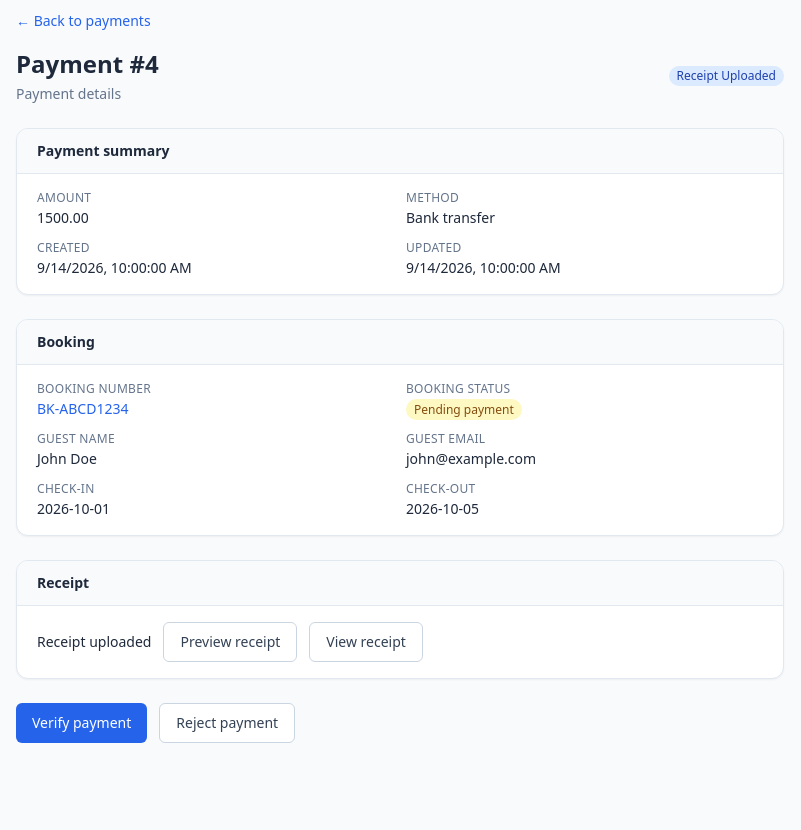
Test: Staff payment detail page › verifies a payment and shows a success banner
Click the button "Verify payment". click: coordinates (82, 723)
box: top-left (16, 703), bottom-right (147, 743)
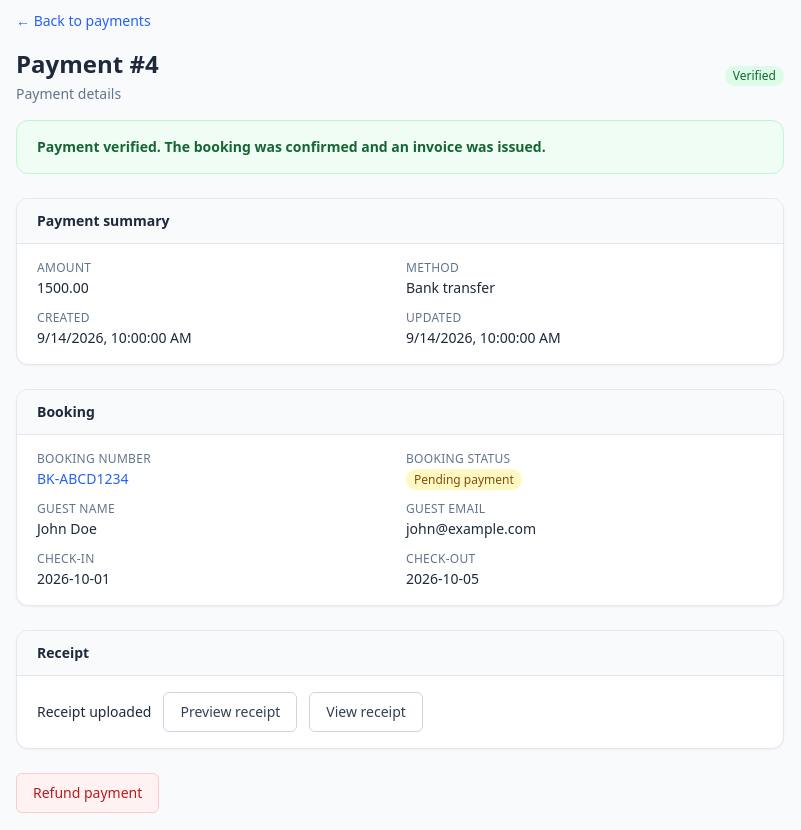
Now the text "Payment verified. The booking was confirmed" is shown, box top-left (37, 137), bottom-right (546, 156)
